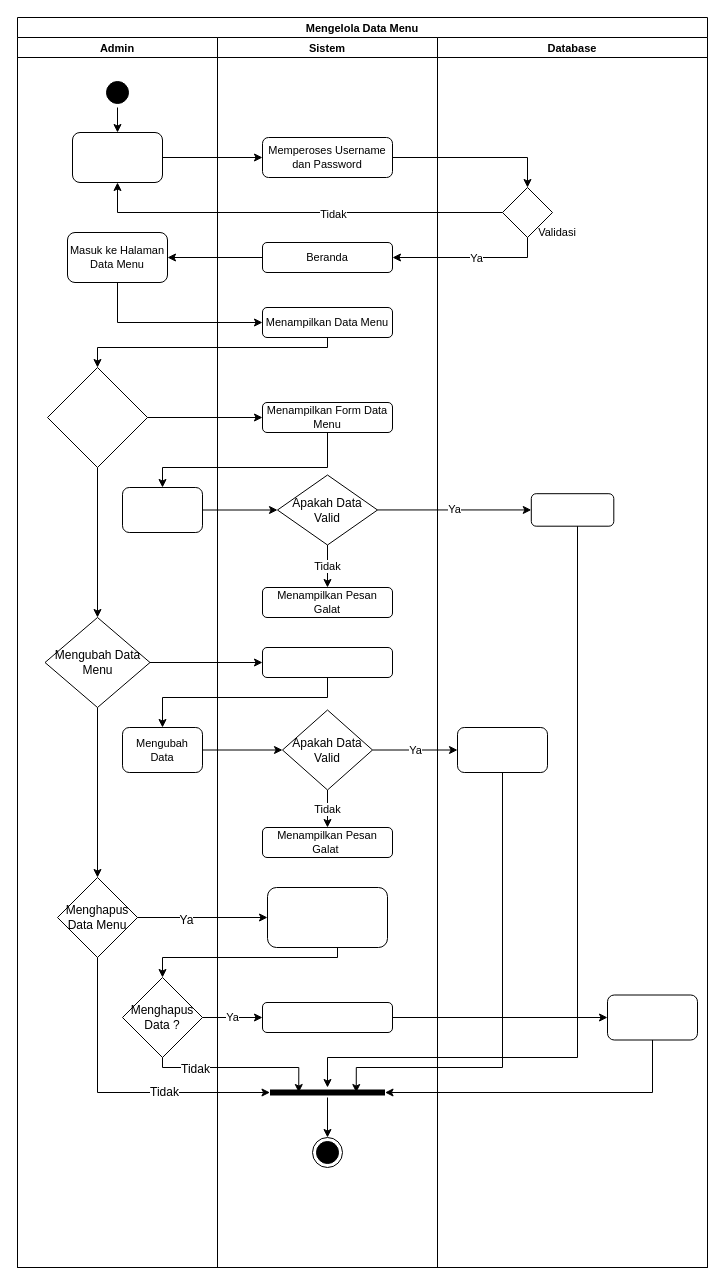
The diagram is 725 pixels wide and 1285 high, and some of its shapes have lost their labels. Each missing label, with the box of its shape:
Berhasil Dihapus: (606, 994, 698, 1040)
Berhasil Mengubah Data: (456, 726, 548, 772)
Masukan Username dan Password: (72, 132, 162, 182)
Memperoses Hapus Data: (262, 1002, 392, 1032)
Menambahkan Data Menu: (46, 366, 148, 468)
Menampilkan Data Berdasarkan ID: (262, 646, 392, 678)
Menampilkan Dialog Pesan Hapus Data Berdasarkan ID: (266, 886, 388, 948)
Mengisi Data Menu: (122, 486, 202, 532)
Menyimpan Data: (530, 493, 614, 526)
